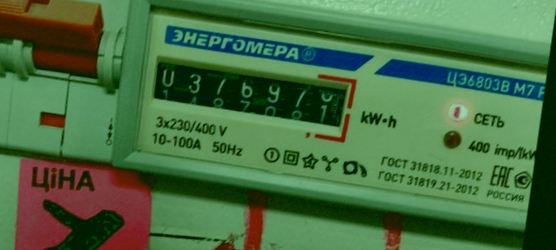0: (160, 65, 178, 89)
1: (317, 102, 329, 125)
3: (187, 72, 203, 94)
6: (239, 75, 257, 100)
7: (213, 72, 230, 97), (292, 83, 309, 108)
9: (266, 81, 283, 104)
screen: (139, 46, 361, 147)
